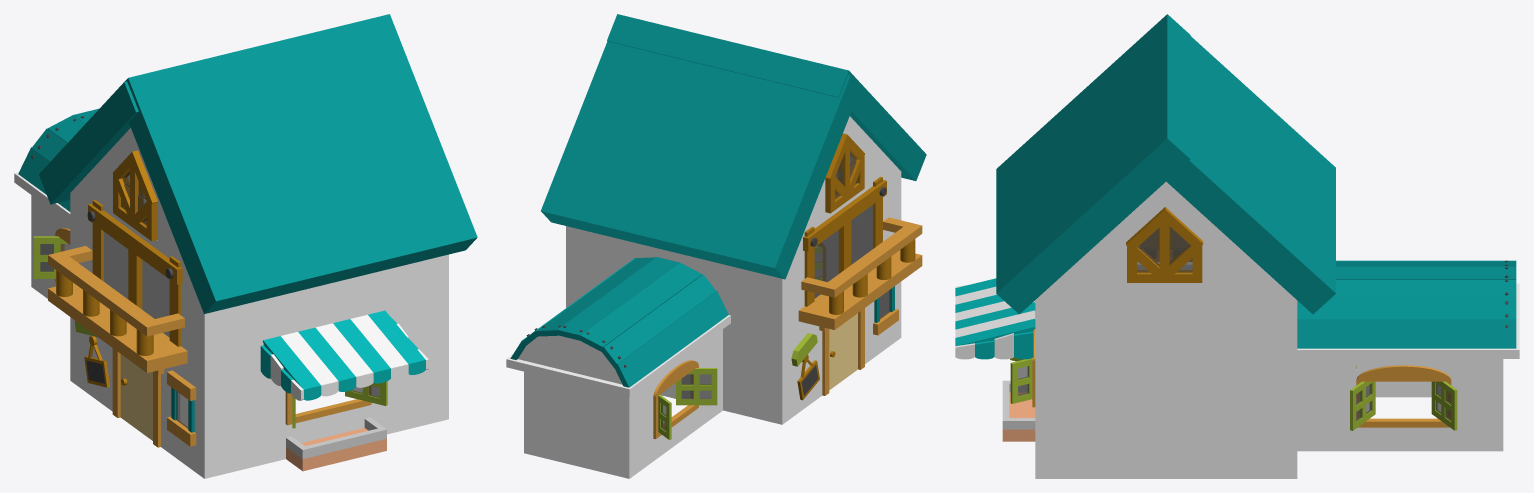
The model's file is house.glb.
3 views of the same model, side by side, from view 1: azimuth 30°, elevation 25°; view 2: azimuth 150°, elevation 25°; view 3: azimuth 270°, elevation 25° (orthographic). The views are drawn at different scales.
Parts seen in each view (by area): view 1: box (×46), wedge (×2); view 2: box (×33), halfCylinder (×2), wedge; view 3: box (×24), wedge (×4), halfCylinder.
Part boxes in pixels (bbox=[...]): box (×46): bbox=[14, 14, 477, 478]; wedge (×2): bbox=[79, 141, 181, 258]; box (×33): bbox=[506, 14, 926, 478]; halfCylinder (×2): bbox=[518, 335, 698, 397]; wedge: bbox=[836, 127, 892, 183]; box (×24): bbox=[955, 14, 1519, 478]; wedge (×4): bbox=[1057, 182, 1274, 280]; halfCylinder: bbox=[1356, 365, 1451, 381].
Bounding box in the file's own units: 101 × 116 × 173.
